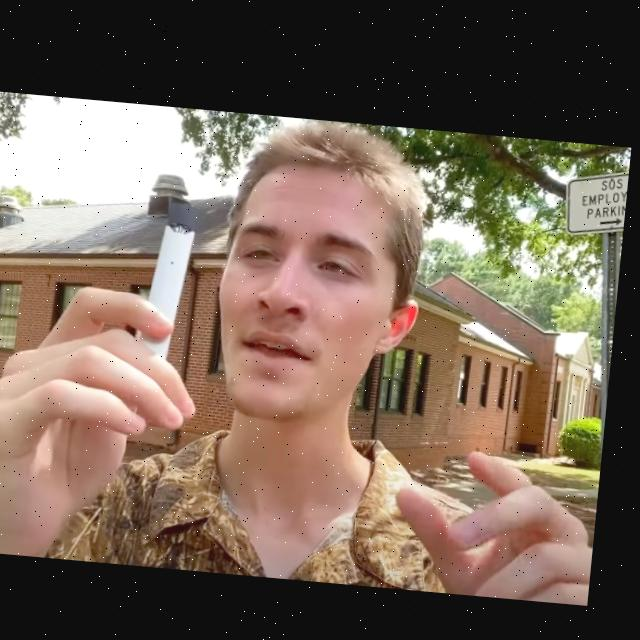vape: (144, 197, 204, 358)
